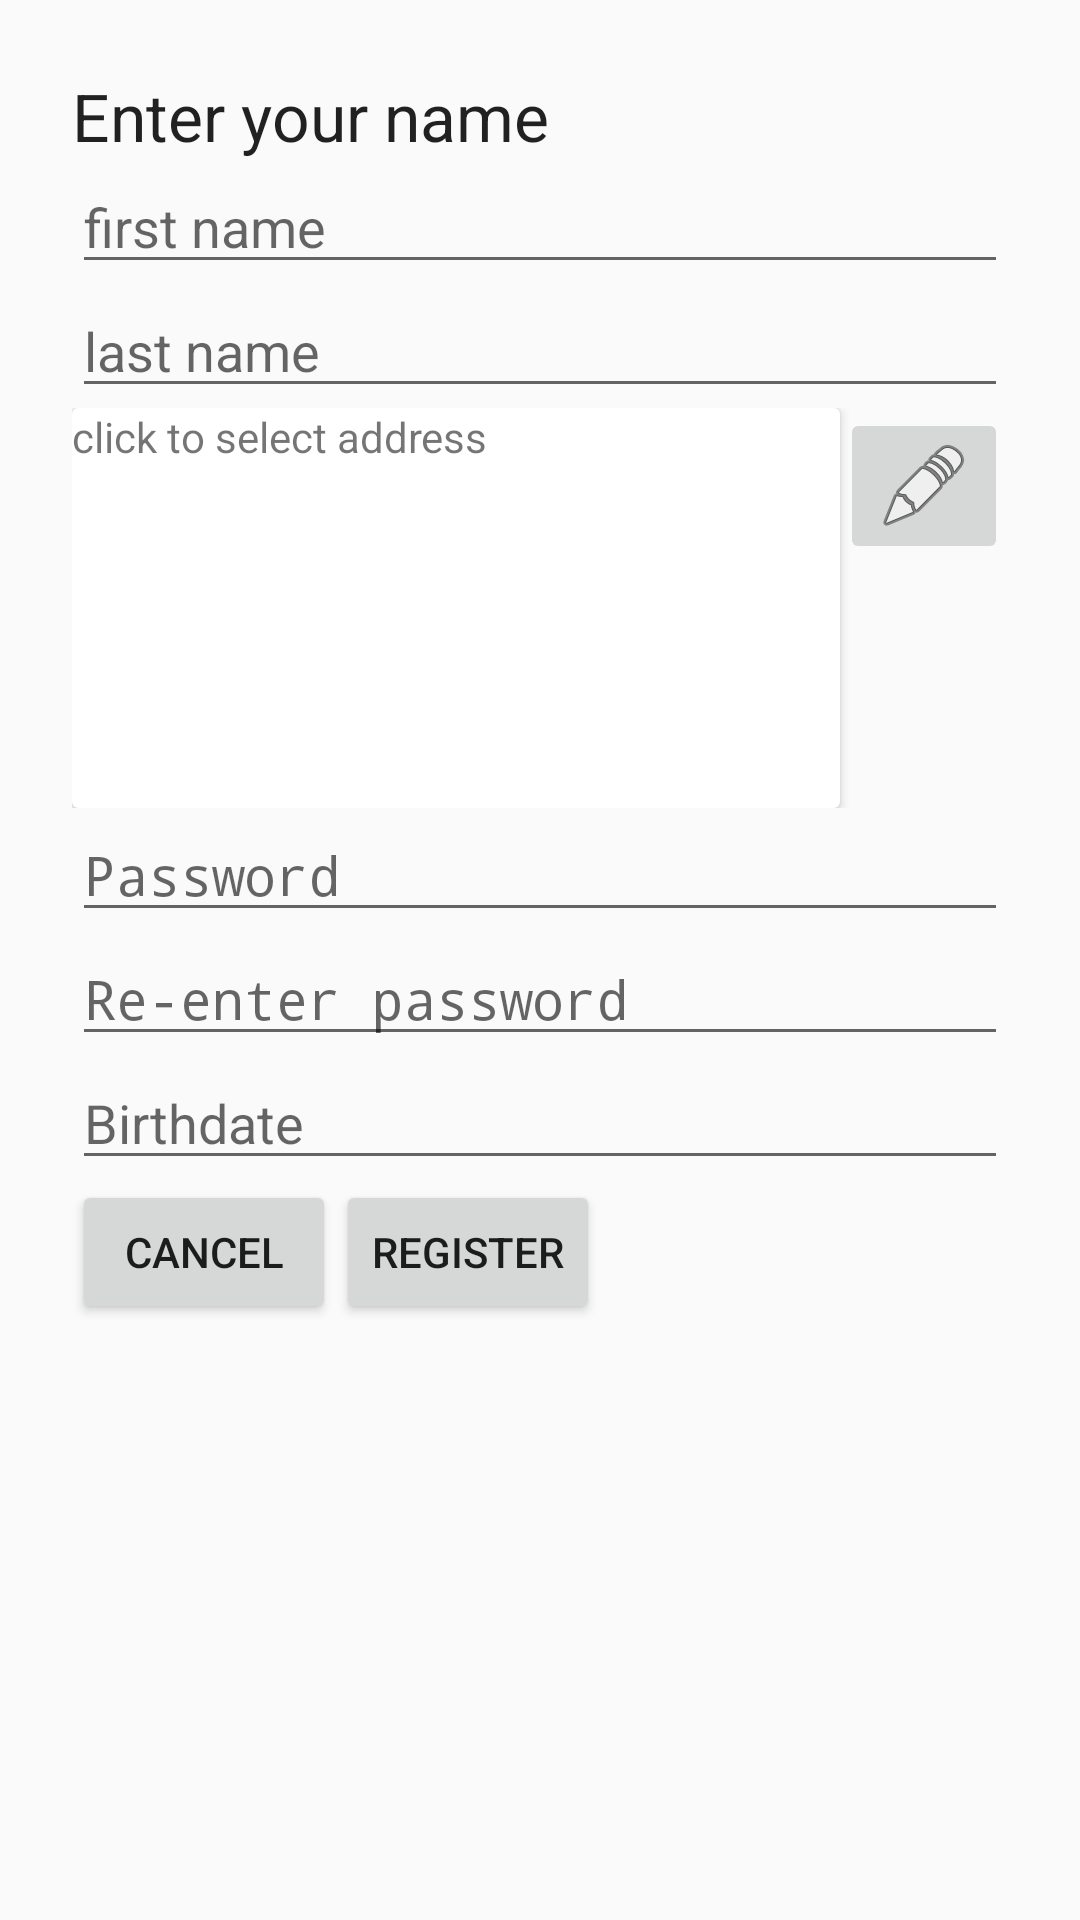

Icons on this 1080px x 1920px Android screen, each with the point to tap as (x=x, y=y):
edit: (x=924, y=486)
